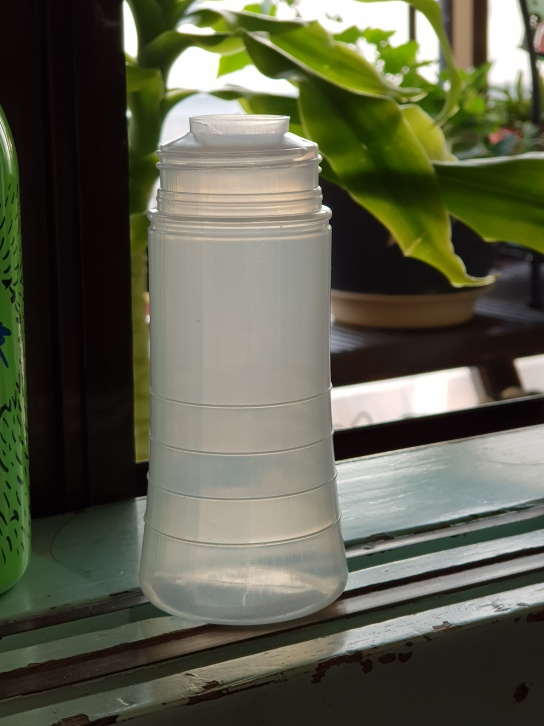Plastic: (141, 110, 351, 631)
